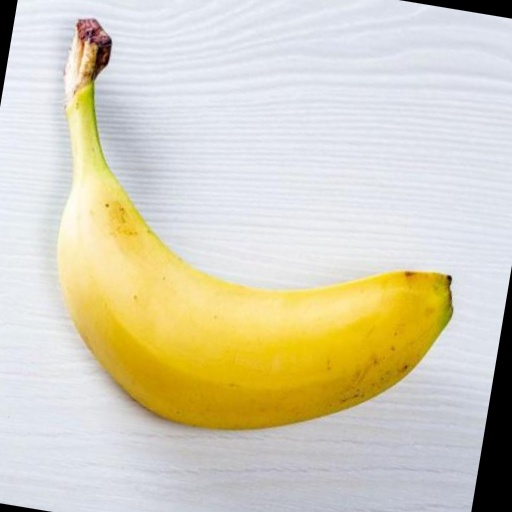fruit: (58, 20, 452, 429)
